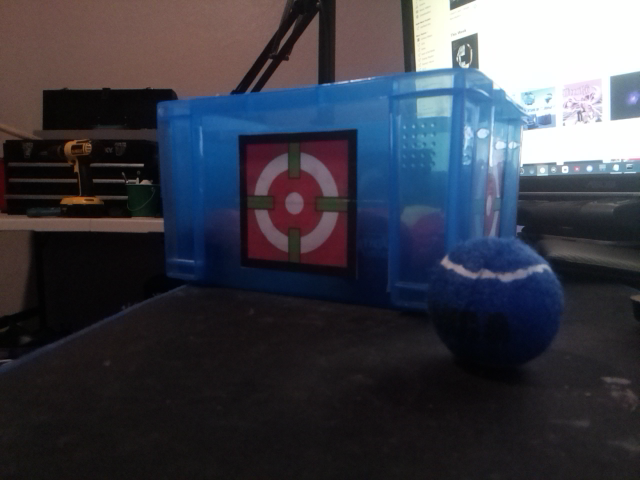blue-ball: (427, 234, 563, 372)
drop-bin: (238, 130, 358, 280)
